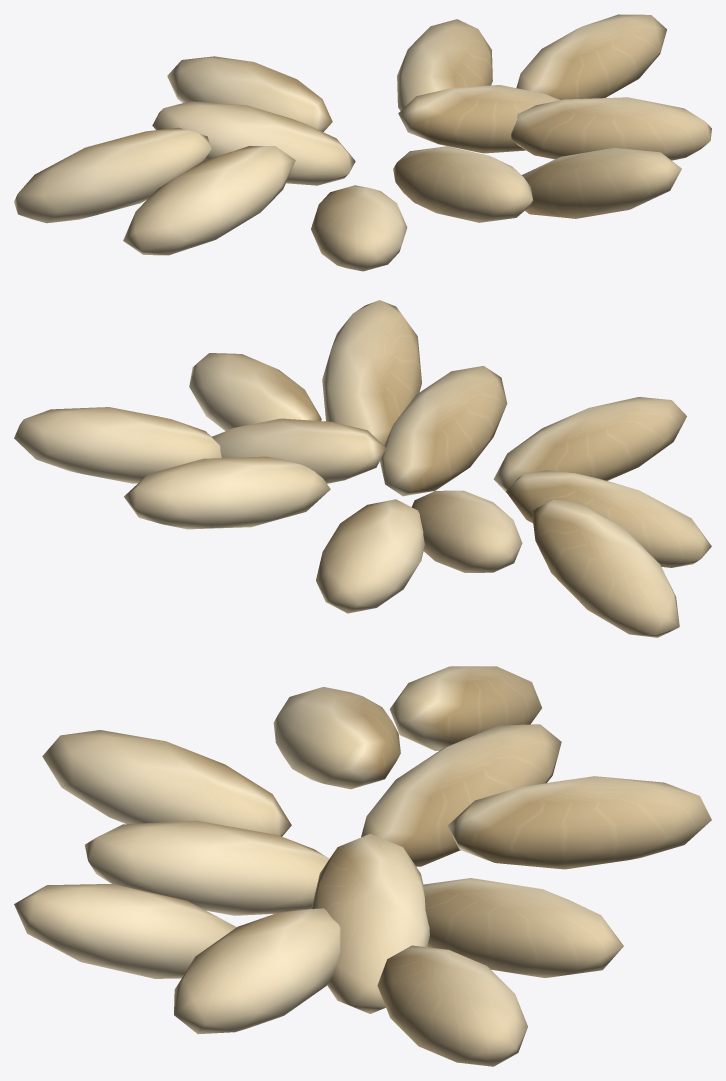
Rendered from NP_Orchid_Seed.fbx.
3 renders of one model, top to bottom at view 1: azimuth 30°, elevation 25°; view 2: azimuth 150°, elevation 25°; view 3: azimuth 270°, elevation 25°, orthographic. The views are drawn at different scales.
Visible parts, largest first — view 1: NP_Orchid_Seed; view 2: NP_Orchid_Seed; view 3: NP_Orchid_Seed.
Part boxes in pixels (x1,y1,x2,y2): NP_Orchid_Seed: (14,14,711,271); NP_Orchid_Seed: (14,300,711,637); NP_Orchid_Seed: (14,666,711,1066).
Size of the model in its own units: 13.82 by 1.76 by 10.07.
